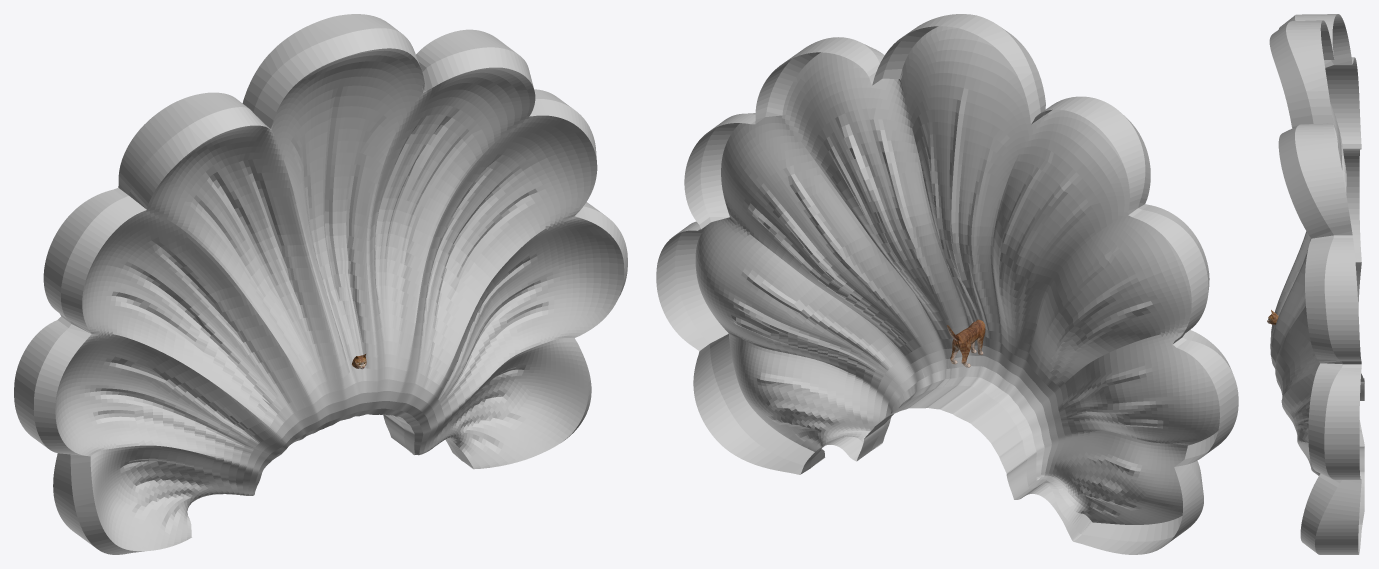
Rendered from cat2.obj.
3 renders of one model, left to right at view 1: azimuth 30°, elevation 25°; view 2: azimuth 150°, elevation 25°; view 3: azimuth 270°, elevation 25°, orthographic. The views are drawn at different scales.
Visible parts, largest first — view 1: Pattern_decor_design_T0004030_download_free_stl_files_3d_mo; view 2: Pattern_decor_design_T0004030_download_free_stl_files_3d_mo, Gato; view 3: Pattern_decor_design_T0004030_download_free_stl_files_3d_mo.
Part boxes in pixels (<box>): Pattern_decor_design_T0004030_download_free_stl_files_3d_mo: <box>14,14,627,554</box>; Pattern_decor_design_T0004030_download_free_stl_files_3d_mo: <box>656,14,1238,554</box>; Gato: <box>947,319,985,367</box>; Pattern_decor_design_T0004030_download_free_stl_files_3d_mo: <box>1269,14,1364,554</box>.
Size of the model in its own units: 10.83 by 8.56 by 1.74.
